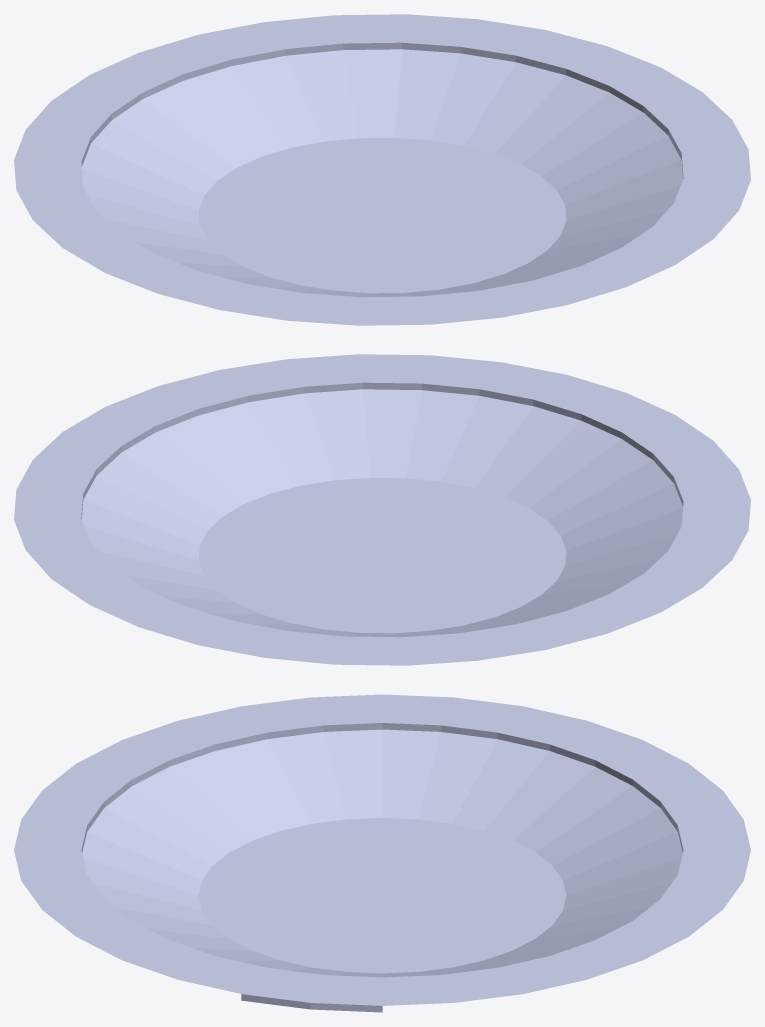
File: plate.fbx
3 renders of one model, top to bottom at view 1: azimuth 30°, elevation 25°; view 2: azimuth 150°, elevation 25°; view 3: azimuth 270°, elevation 25°, orthographic.
Parts seen in each view (by area): view 1: Circle; view 2: Circle; view 3: Circle.
Part boxes in pixels (box(x1,y1,x2,y2)): Circle: box(14, 14, 750, 325); Circle: box(14, 354, 750, 665); Circle: box(14, 694, 750, 1012).
Bounding box in the file's own units: 76.87 × 6.68 × 76.87.
